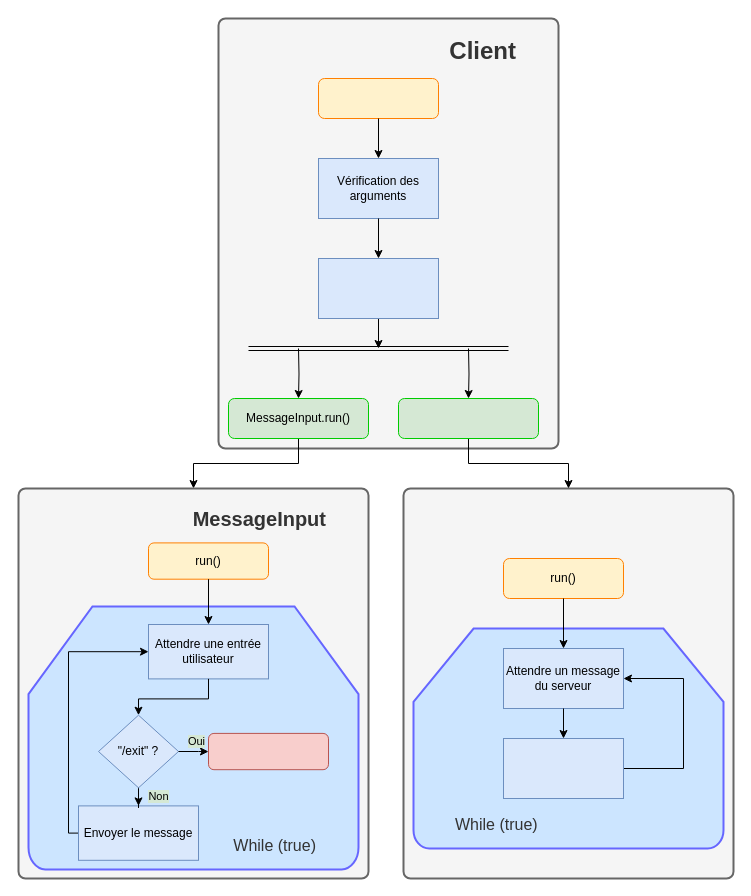
This 751x896 diagram has some shape labels left out. Here are the shapes that lost their labels. From the top down, the box of each, then its label:
(318, 78, 438, 118): main(String[] args)
(318, 258, 438, 318): Connexion au serveur
(398, 398, 538, 438): MessageReceptor.run()
(402, 487, 734, 879): MessageReceptor
(208, 732, 328, 770): Arrêter le programme
(502, 738, 624, 798): Afficher le message
